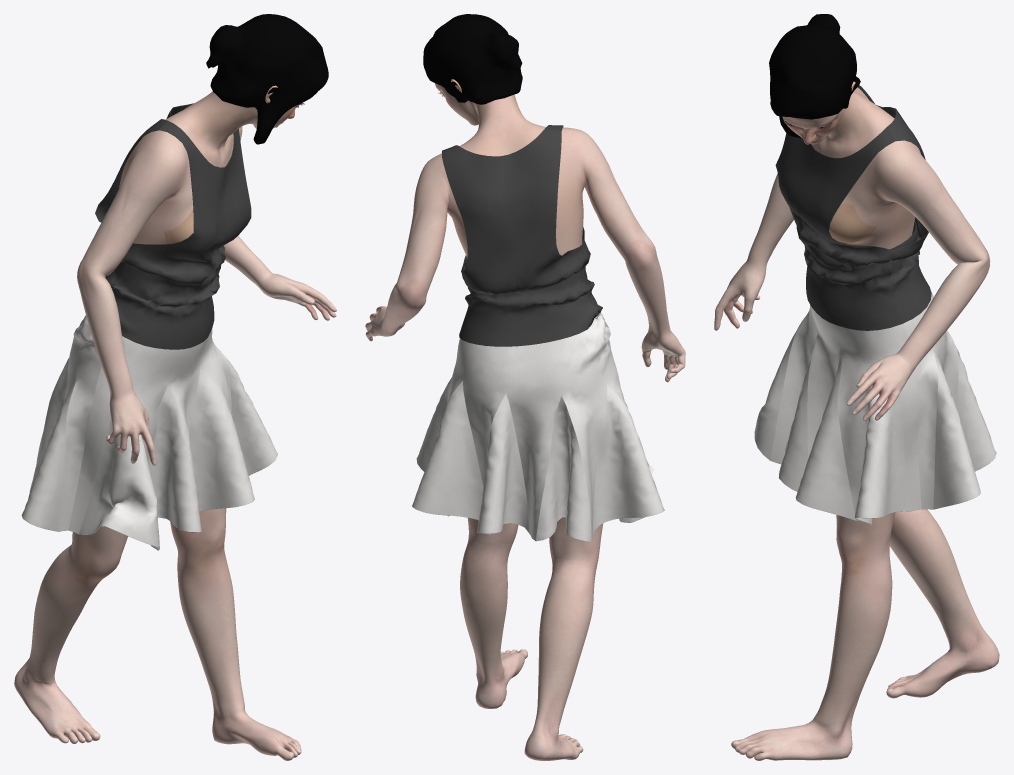
File: Custom_View_7__random.obj
The picture shows the model from 3 angles, left to right: view 1: azimuth 30°, elevation 25°; view 2: azimuth 150°, elevation 25°; view 3: azimuth 270°, elevation 25°; orthographic projection. The views are drawn at different scales.
Size of the model in its own units: 758 by 1681 by 585.
